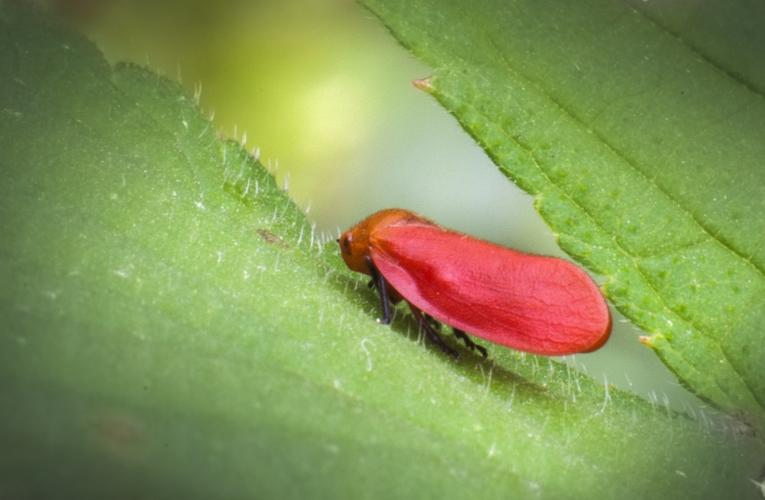Cicadellidae: (338, 207, 612, 360)
